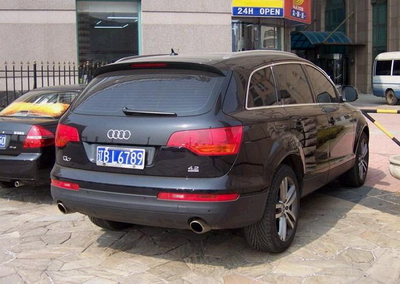plate_number: (96, 147, 145, 167)
